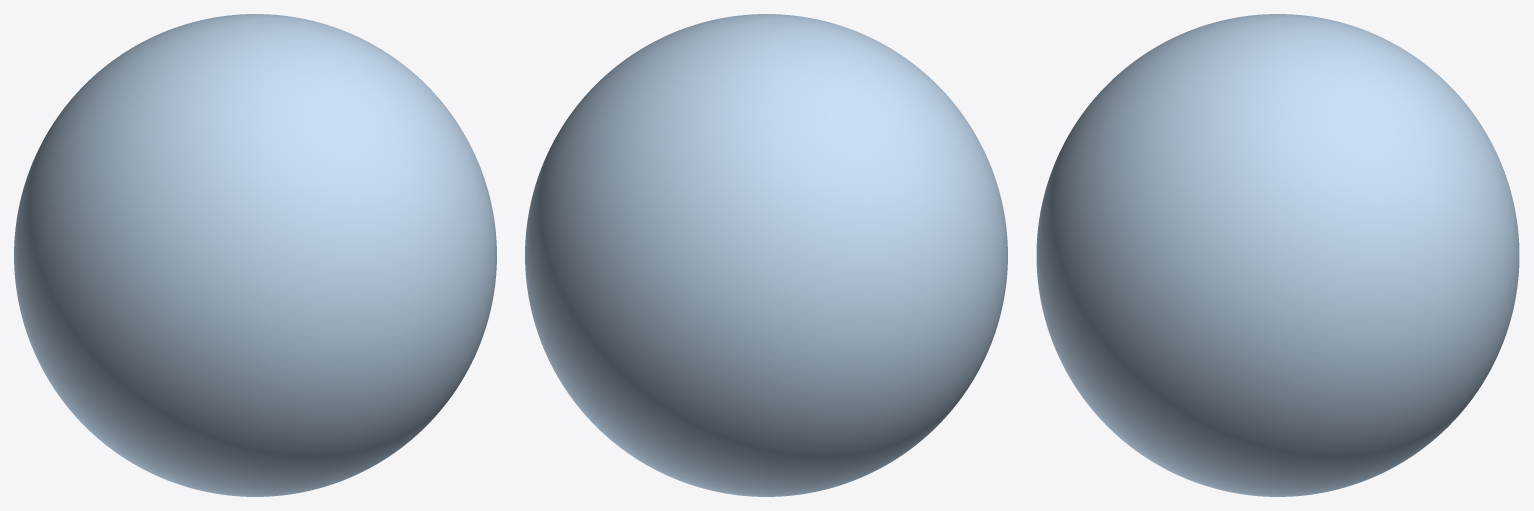
3 views of the same model, side by side, from view 1: azimuth 30°, elevation 25°; view 2: azimuth 150°, elevation 25°; view 3: azimuth 270°, elevation 25° (orthographic).
Parts seen in each view (by area): view 1: Object_2; view 2: Object_2; view 3: Object_2.
Part boxes in pixels (x1,y1,x2,y2): Object_2: (14,14,496,496); Object_2: (525,14,1007,496); Object_2: (1036,14,1519,496).
Bounding box in the file's own units: 20 × 20 × 20.
